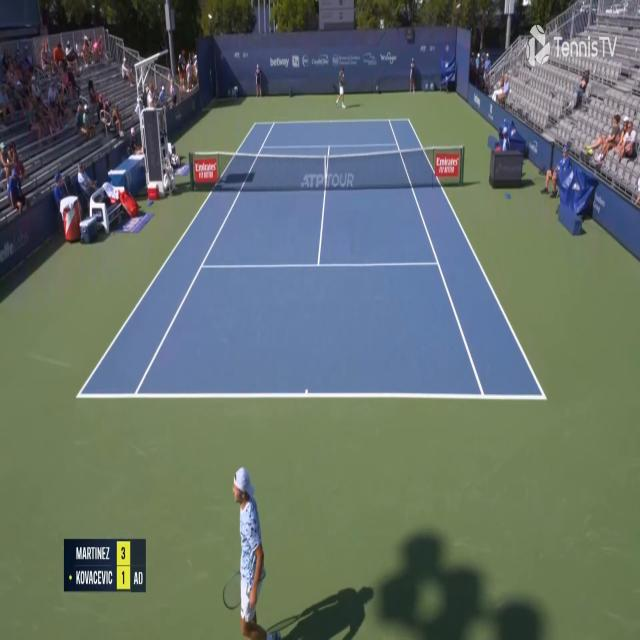tennis-player: (222, 460, 267, 637), (335, 66, 347, 109)
